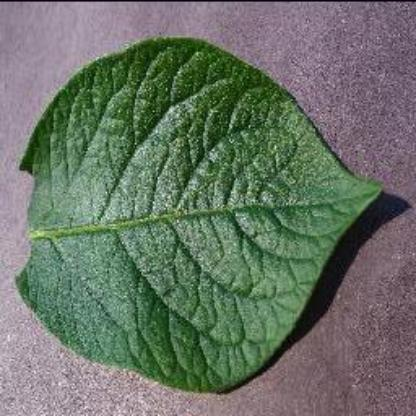Healthy-plant: (14, 37, 396, 397)
